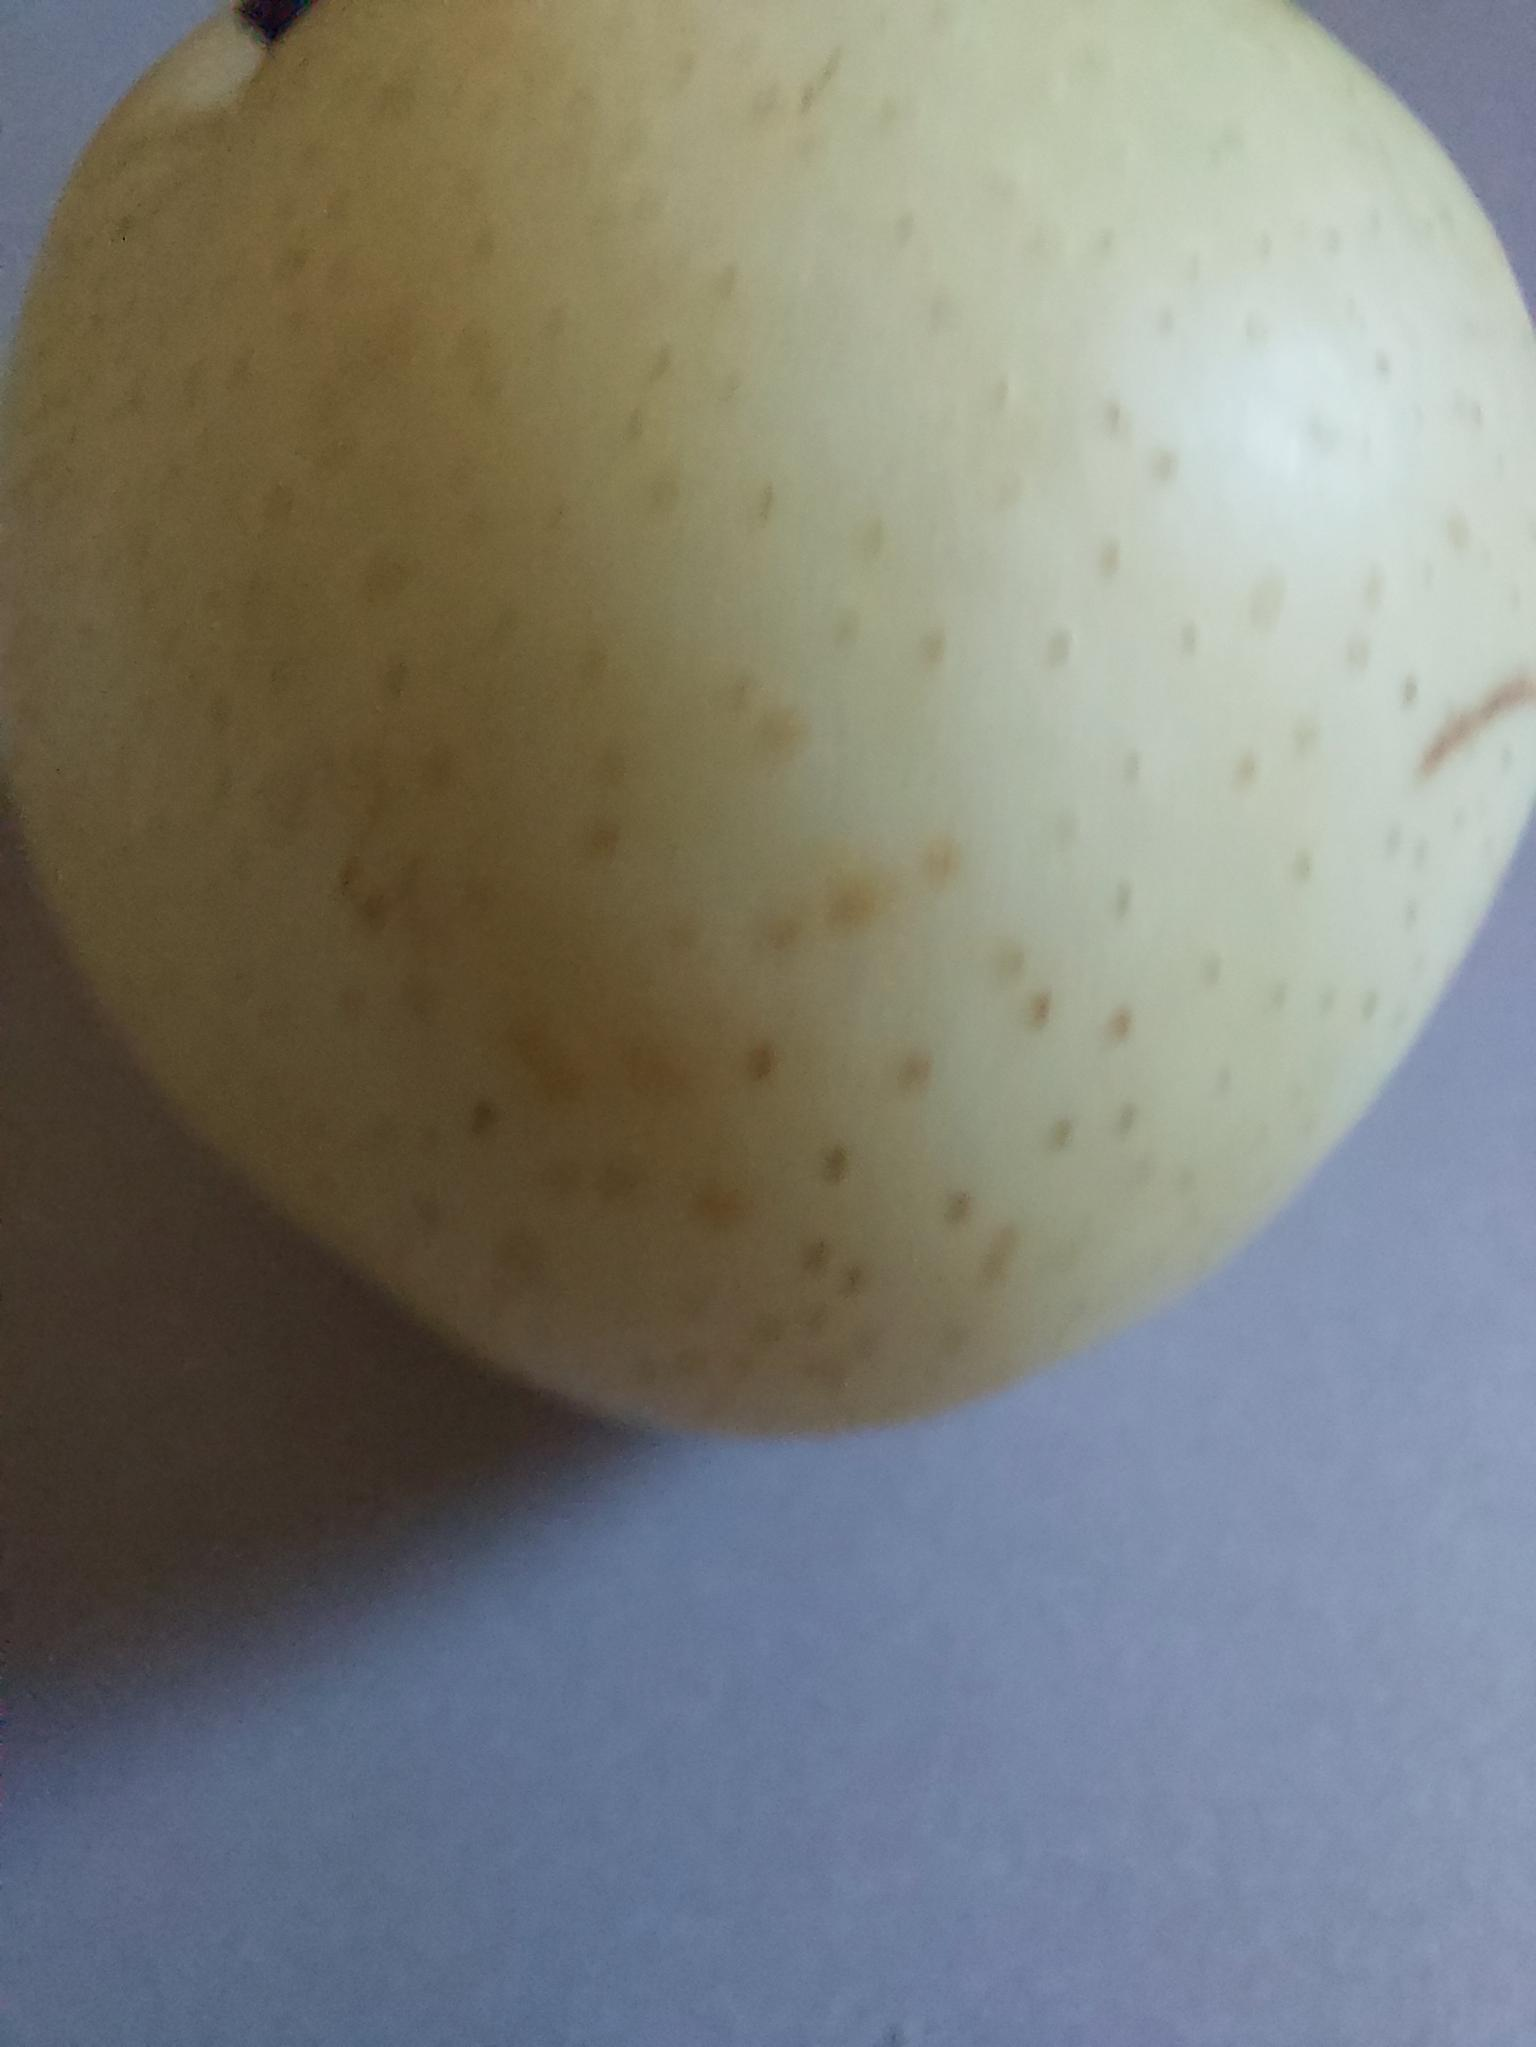Good Pear: (0, 0, 1536, 1540)
